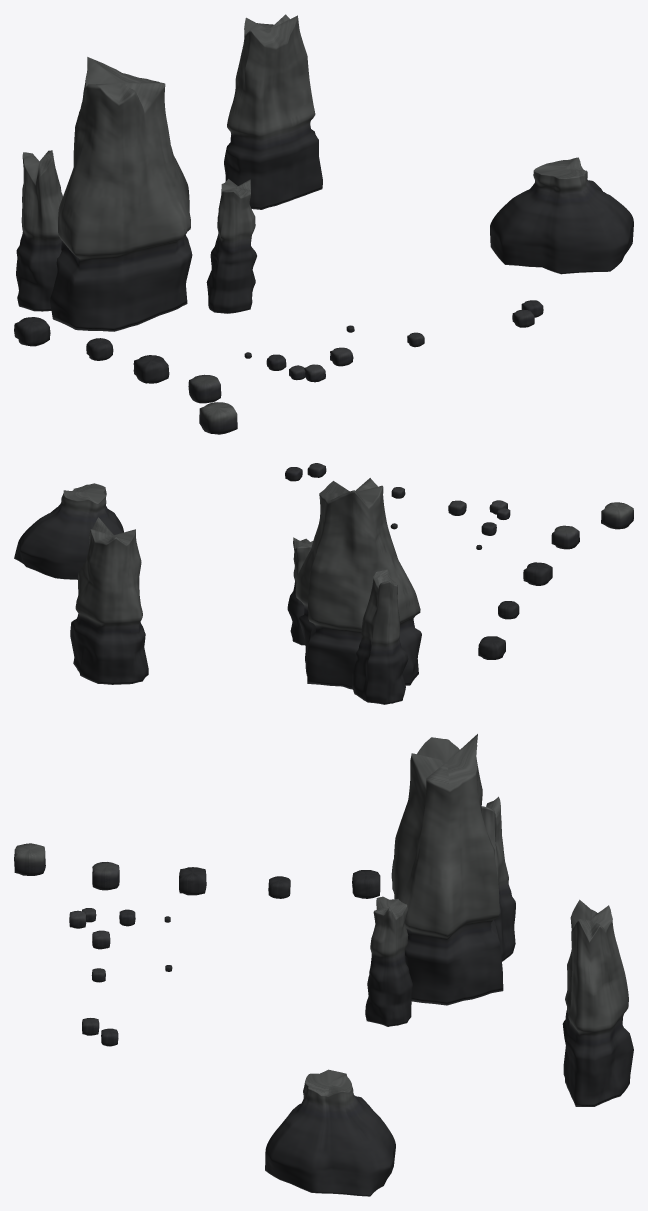
File: stacks-v2.glb
The picture shows the model from 3 angles, top to bottom: view 1: azimuth 30°, elevation 25°; view 2: azimuth 150°, elevation 25°; view 3: azimuth 270°, elevation 25°; orthographic projection. The views are drawn at different scales.
Bounding box in the file's own units: 62.65 × 24 × 57.13.
1 material, 1 textured.
